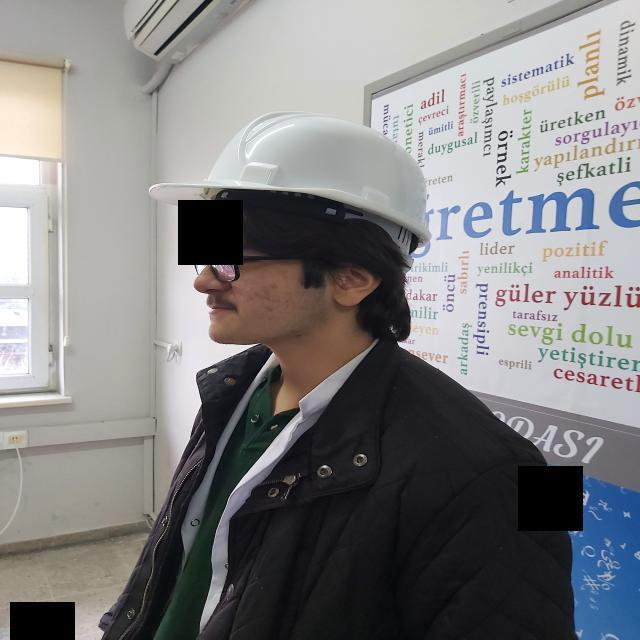helmet: (147, 109, 432, 260)
